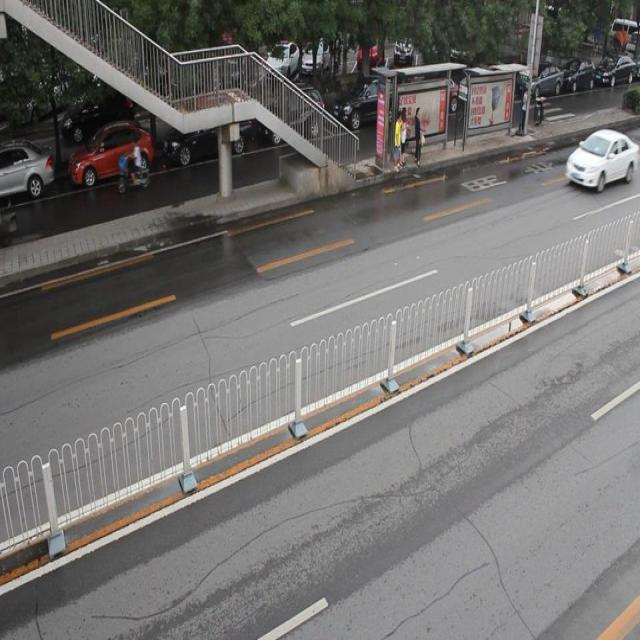car: (71, 120, 156, 184), (165, 108, 253, 165), (563, 128, 633, 192), (262, 88, 327, 145), (334, 75, 398, 130), (0, 140, 54, 201)
